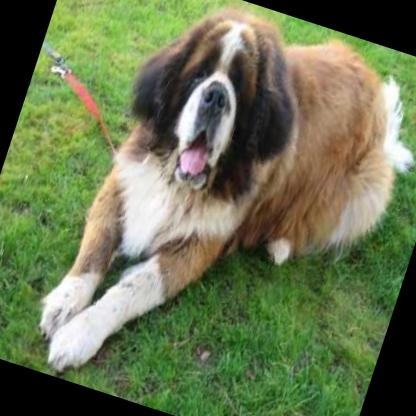Saint_Bernard: (21, 0, 416, 416)
